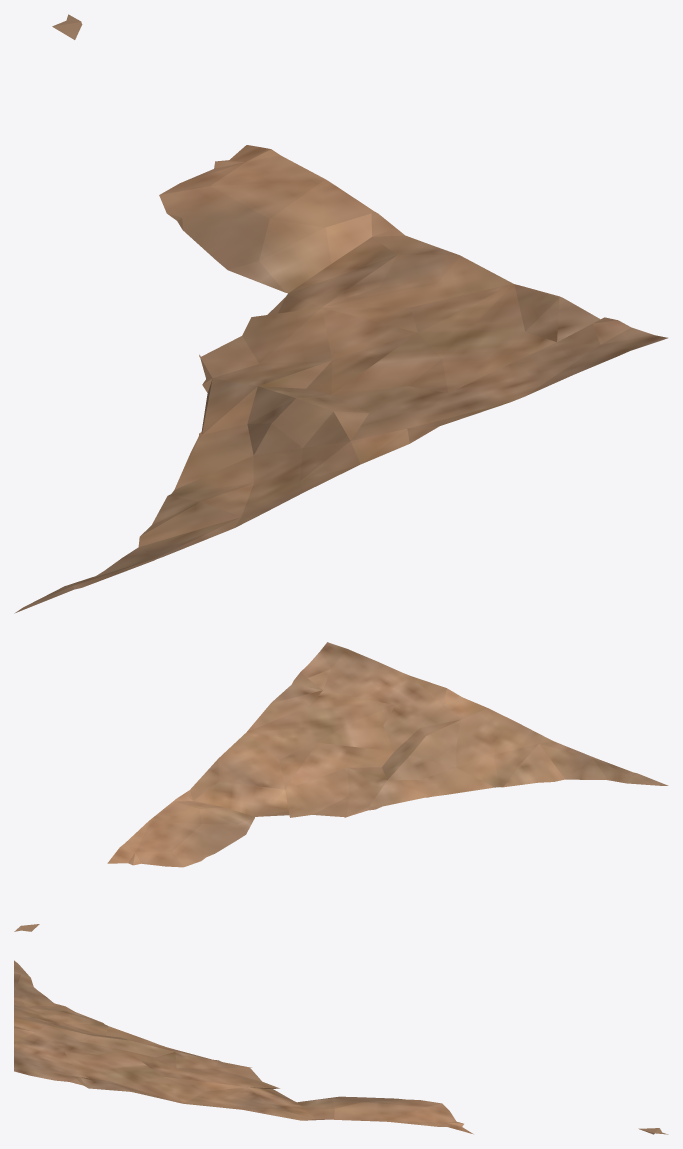
3 views of the same model, one above another, from view 1: azimuth 30°, elevation 25°; view 2: azimuth 150°, elevation 25°; view 3: azimuth 270°, elevation 25° (orthographic). The views are drawn at different scales.
Size of the model in its own units: 1.13 by 0.1906 by 1.79.
1 material, 1 textured.
